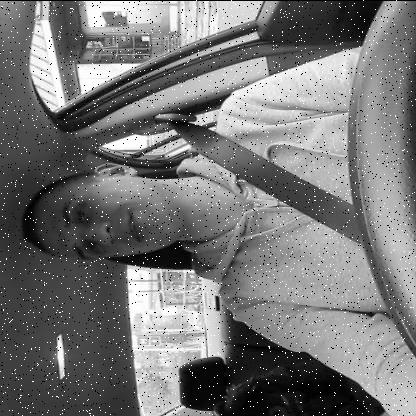seatbelt: (15, 100, 369, 296)
